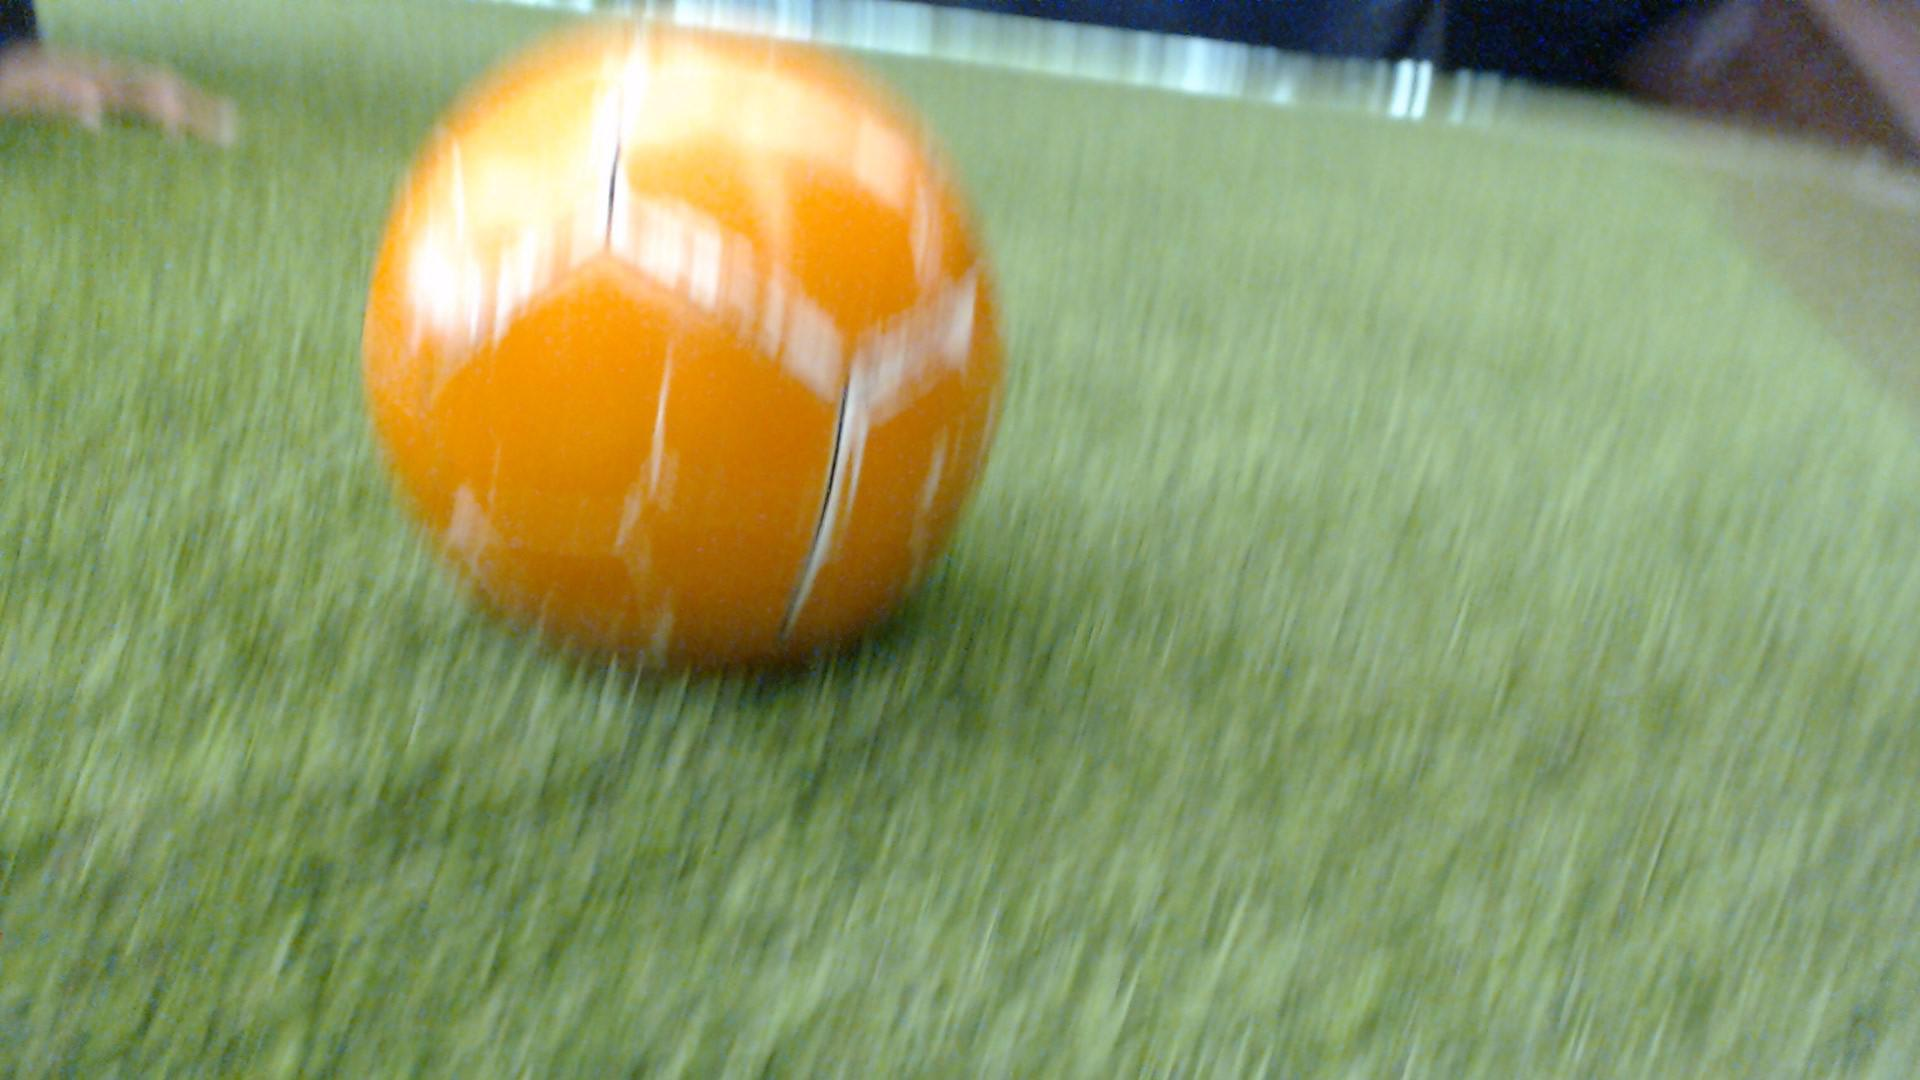bola: (339, 3, 1072, 704)
